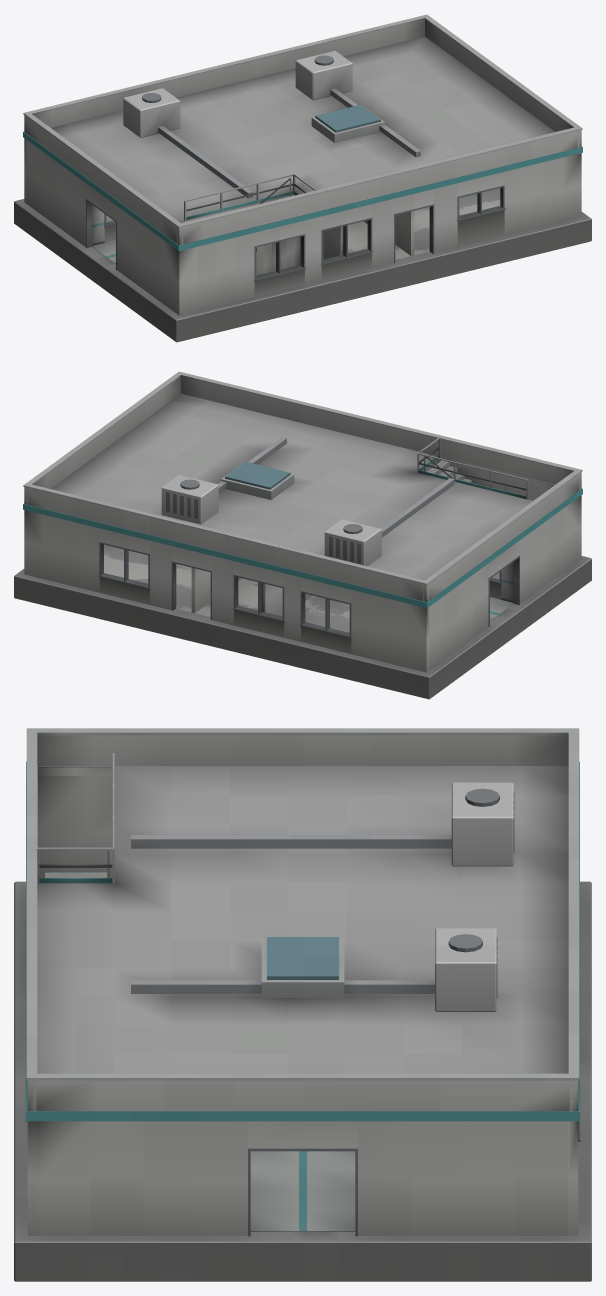
The model's file is lab_low.glb.
The picture shows the model from 3 angles, top to bottom: view 1: azimuth 30°, elevation 25°; view 2: azimuth 150°, elevation 25°; view 3: azimuth 270°, elevation 25°; orthographic projection. The views are drawn at different scales.
Visible parts, largest first — view 1: lab_low; view 2: lab_low; view 3: lab_low.
Boxes of the visible parts, <box> form: lab_low: <box>14,14,591,342</box>; lab_low: <box>14,371,591,699</box>; lab_low: <box>14,728,591,1281</box>.
Size of the model in its own units: 24.8 by 7.02 by 16.8.
